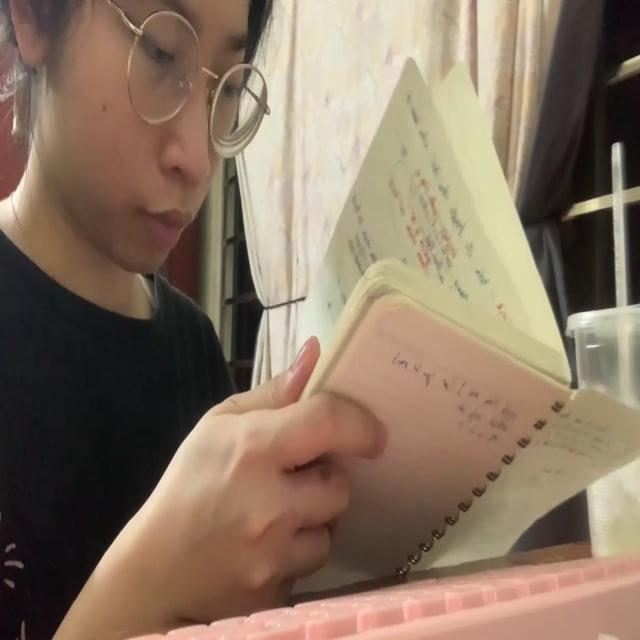book: (285, 47, 640, 600)
student: (0, 0, 384, 640)
